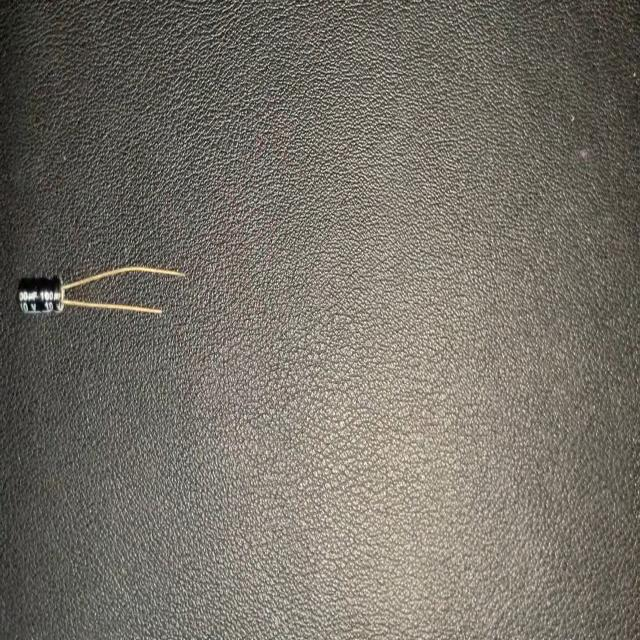capacitor: (16, 261, 184, 322)
